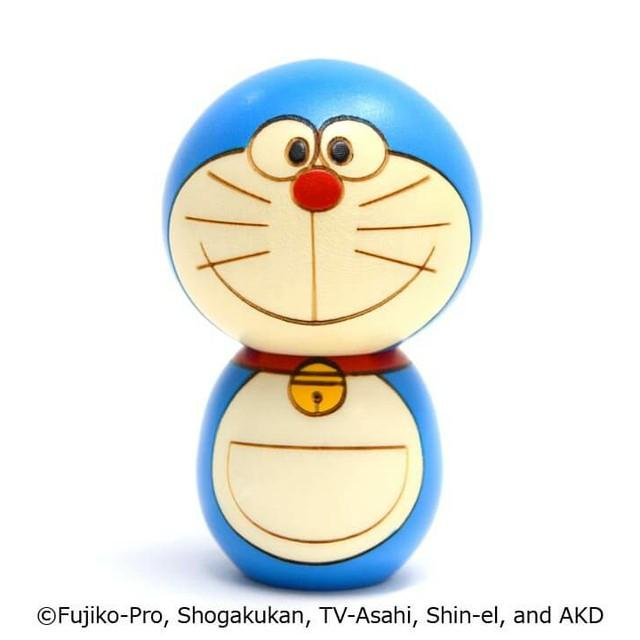doraemon: (146, 45, 499, 543)
